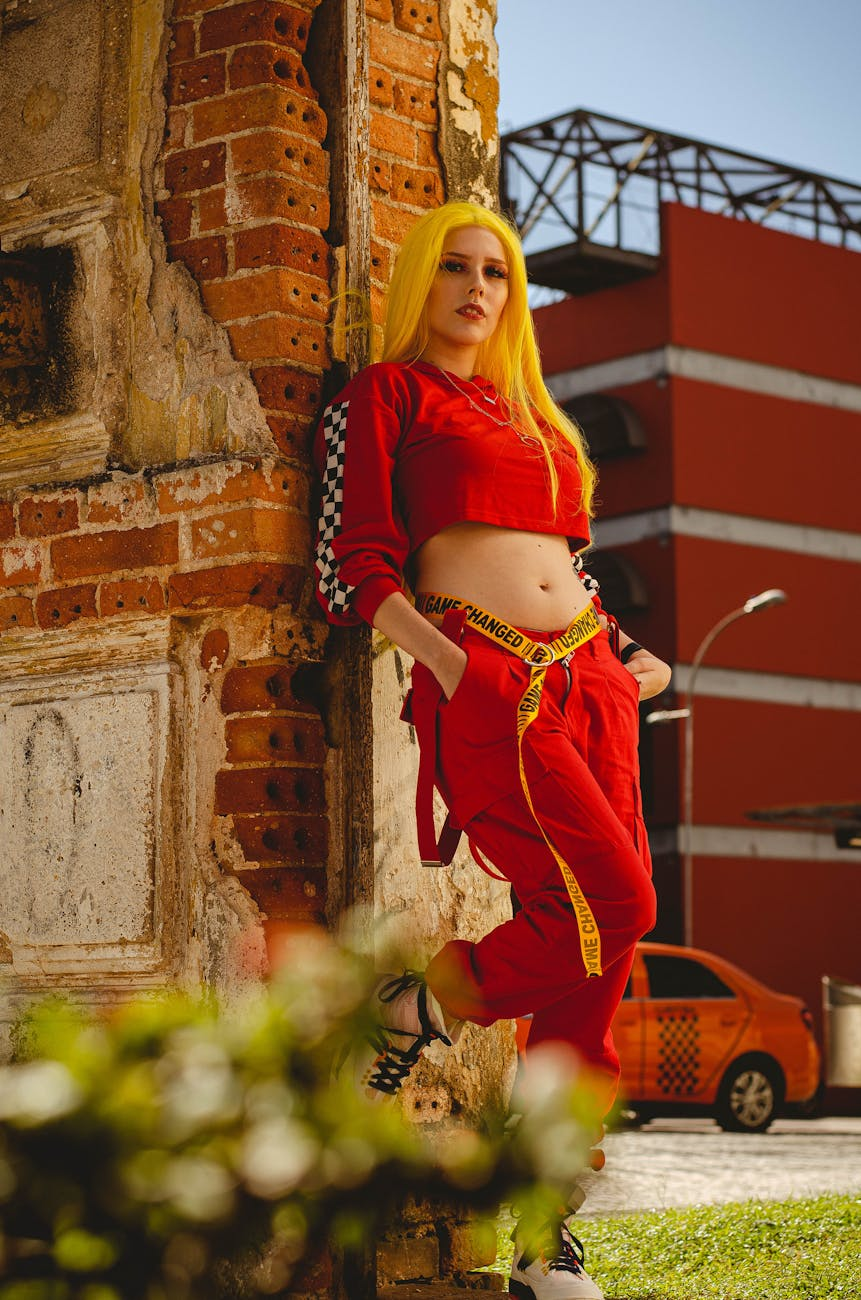crop_top: (326, 354, 611, 563)
